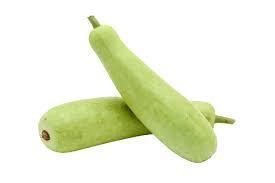bottle gourd: (86, 14, 219, 162), (37, 95, 151, 153)
